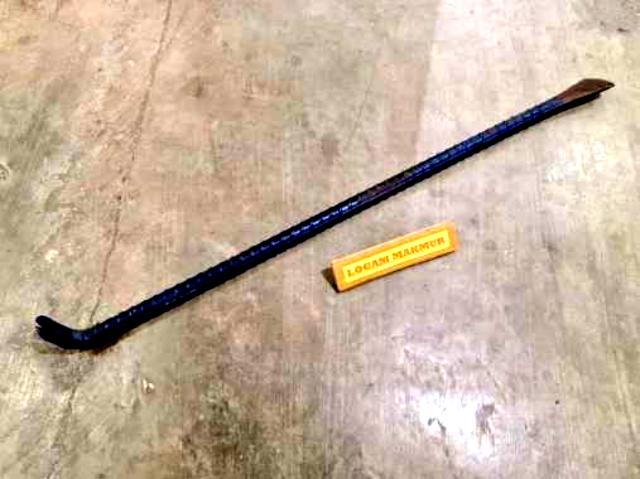crow bar: (27, 70, 620, 352)
